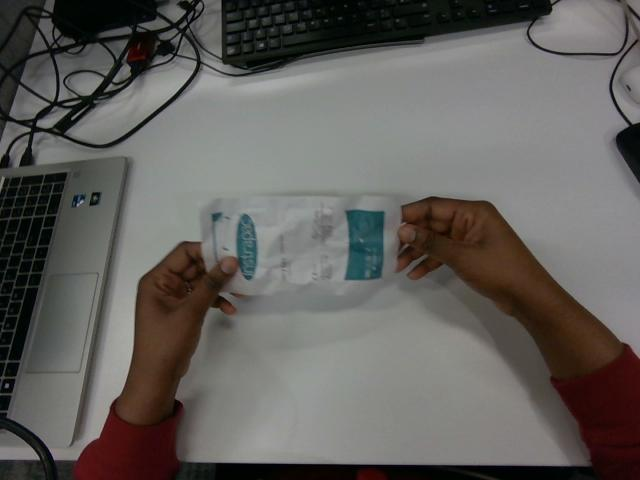gallipot: (201, 196, 401, 294)
